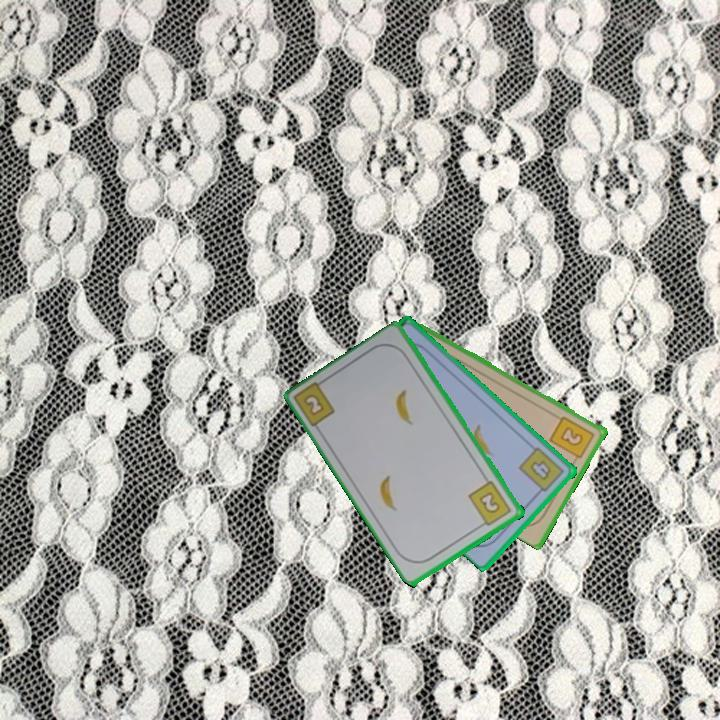2b: (546, 412, 598, 466), (465, 477, 515, 531), (303, 393, 328, 419)
4b: (516, 444, 568, 498)
